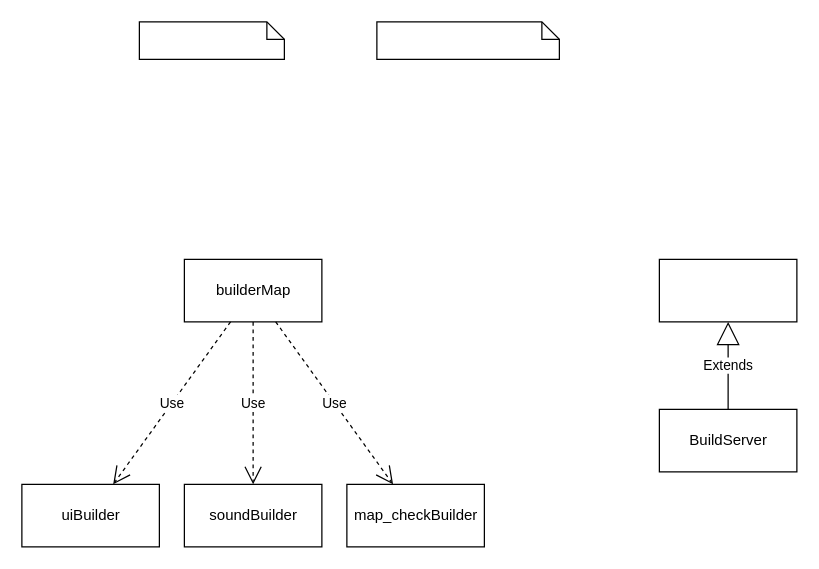
The diagram is 819 pixels wide and 569 high, and some of its shapes have lost their labels. The centre of each missing label's shape, as x and y in pixels:
BaseServer: pixel 727 290
CommonFunction.py: pixel 467 40
environment.py: pixel 211 40
